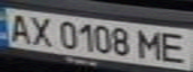0: (54, 18, 78, 51), (90, 22, 112, 55)
1: (75, 20, 93, 53)
8: (112, 25, 136, 57)
A: (3, 10, 33, 44)
E: (157, 30, 190, 64)
M: (136, 27, 166, 61)
X: (24, 14, 57, 47)
